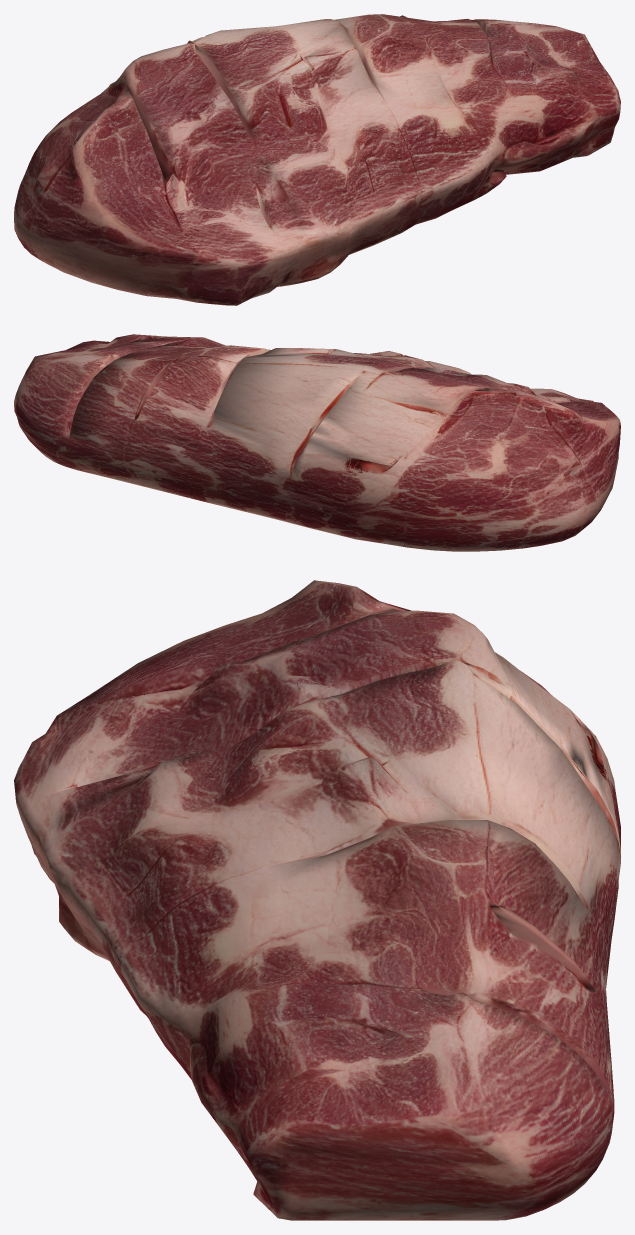
The model's file is beef.fbx.
3 renders of one model, top to bottom at view 1: azimuth 30°, elevation 25°; view 2: azimuth 150°, elevation 25°; view 3: azimuth 270°, elevation 25°, orthographic. The views are drawn at different scales.
Visible parts, largest first — view 1: mesh_rep_0_ori_repair.001; view 2: mesh_rep_0_ori_repair.001; view 3: mesh_rep_0_ori_repair.001.
Part boxes in pixels (x1,y1,x2,y2): mesh_rep_0_ori_repair.001: (14, 14, 620, 305); mesh_rep_0_ori_repair.001: (14, 334, 620, 551); mesh_rep_0_ori_repair.001: (14, 580, 620, 1220).
Size of the model in its own units: 114 by 28.38 by 59.63.
